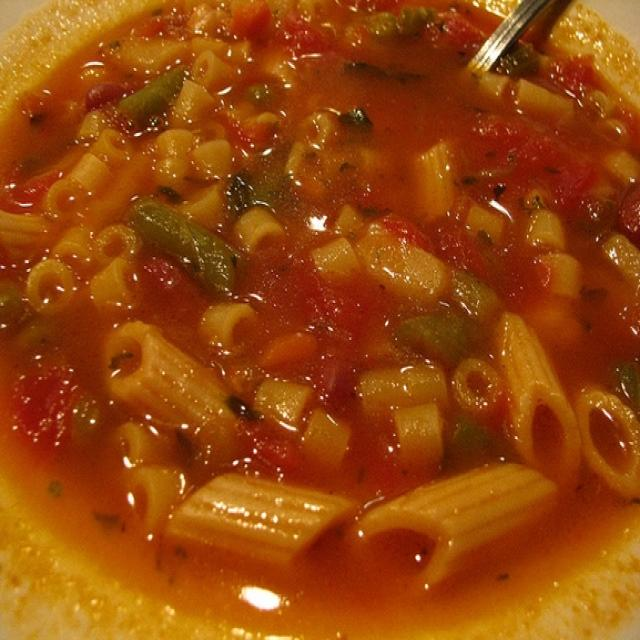汤锅炖物: (30, 21, 618, 604)
